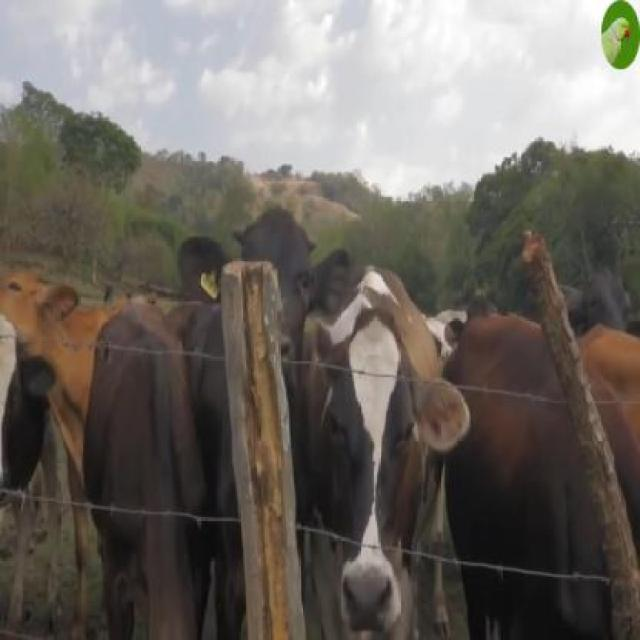Cow: (314, 314, 471, 638)
